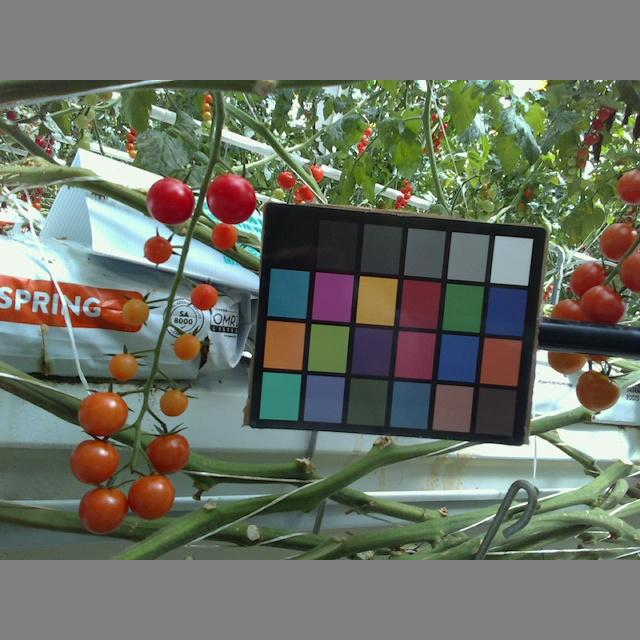pink: (77, 389, 129, 438), (77, 486, 128, 534), (127, 475, 176, 522), (69, 440, 121, 484), (577, 287, 625, 326), (146, 432, 190, 474), (575, 371, 619, 412), (550, 296, 597, 334), (600, 220, 640, 264), (547, 335, 587, 376), (569, 259, 608, 299), (108, 350, 139, 383), (172, 331, 202, 361), (144, 233, 173, 264), (159, 388, 190, 416), (618, 169, 640, 206), (121, 298, 151, 325), (211, 220, 239, 248), (191, 282, 219, 310), (622, 249, 640, 291)
red: (208, 174, 256, 222), (145, 178, 194, 223)
